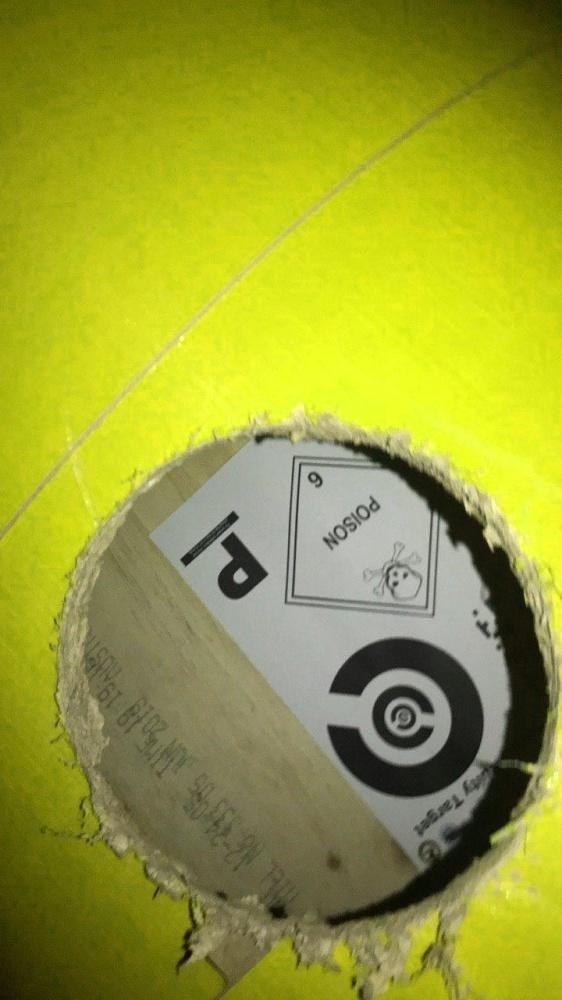poison: (282, 453, 448, 625)
